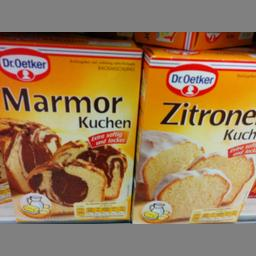cake: (0, 36, 142, 220), (132, 40, 254, 222)
